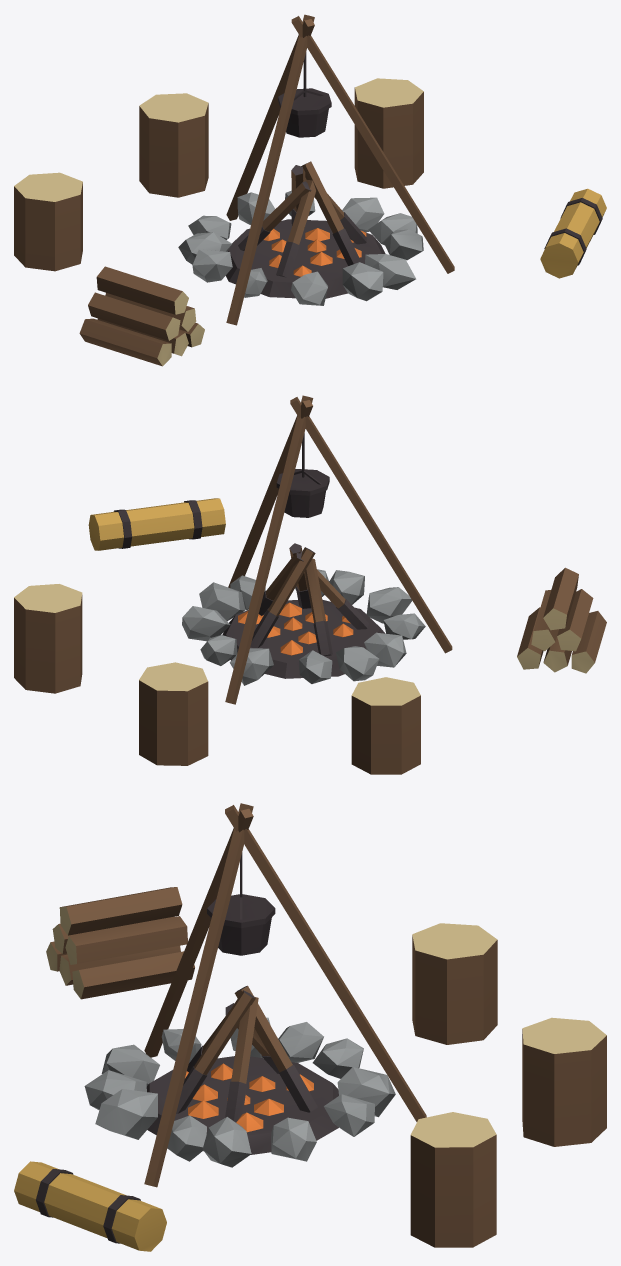
File: campfire_2.glb
The picture shows the model from 3 angles, top to bottom: view 1: azimuth 30°, elevation 25°; view 2: azimuth 150°, elevation 25°; view 3: azimuth 270°, elevation 25°; orthographic projection. The views are drawn at different scales.
Visible parts, largest first — view 1: campfire_2; view 2: campfire_2; view 3: campfire_2.
Part boxes in pixels (x1=…): campfire_2: x1=14, y1=14, x2=606, y2=366; campfire_2: x1=14, y1=395, x2=606, y2=774; campfire_2: x1=14, y1=803, x2=606, y2=1251.
Size of the model in its own units: 3.68 by 1.77 by 2.95.
